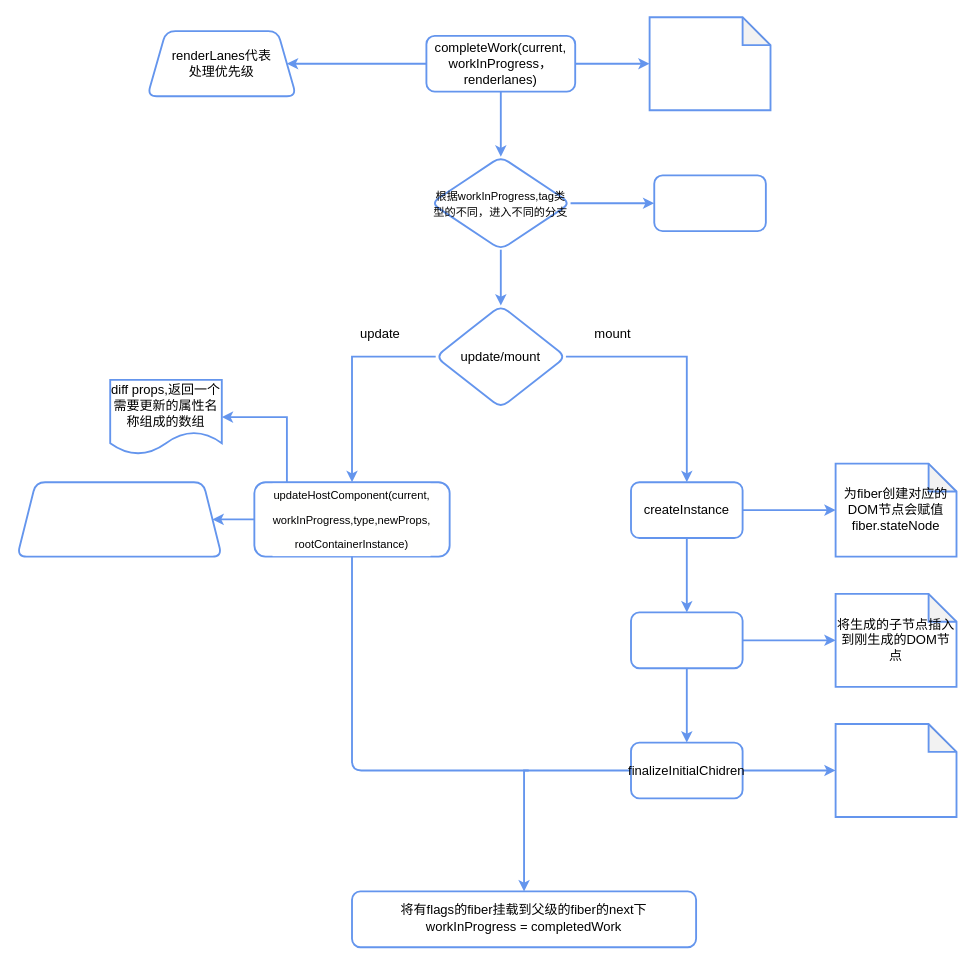
The diagram is 973 pixels wide and 963 high, and some of its shapes have lost their labels. The box of each missing label's shape, as (x1, y1, x2, y2) in pixels:
appendAllChildren: (630, 611, 743, 669)
初始化DOM对象的事件监听器和内部属性: (834, 723, 957, 817)
在上一个节点diff完成之后，进行收尾工作，主要是根据flags执行对应的操作: (648, 16, 771, 111)
此处以原生的组件为例（HostComponent）: (653, 174, 766, 232)
被处理完成的数据 [key1, value1,...] 赋值给workInProgress.updateQueue: (16, 481, 222, 557)
